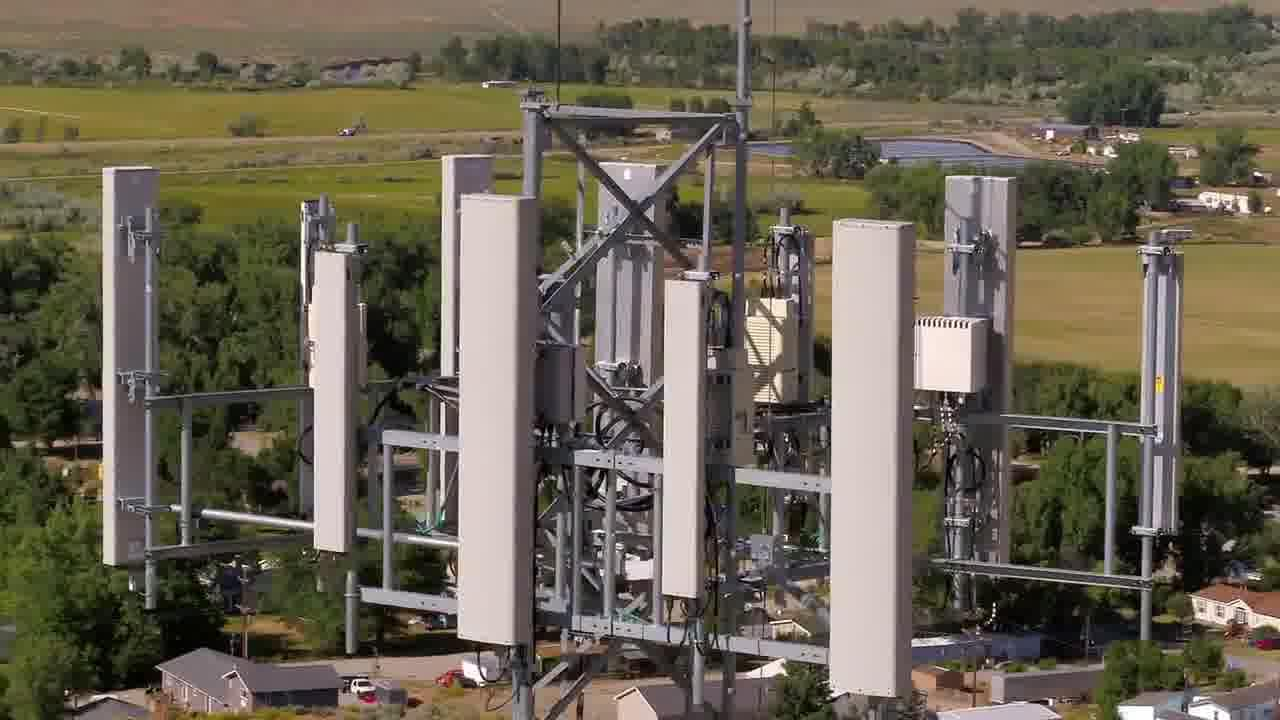antenna: (825, 213, 928, 720), (448, 172, 552, 657), (82, 151, 160, 572), (648, 285, 749, 608), (583, 143, 667, 456), (943, 167, 1019, 512), (1129, 237, 1188, 556), (307, 240, 365, 558), (433, 141, 491, 395)
